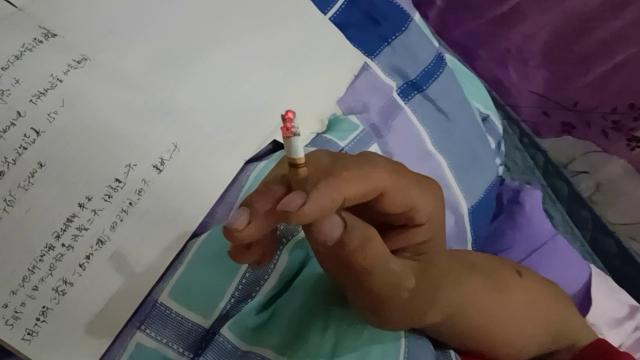Cigarette: (280, 109, 316, 214)
